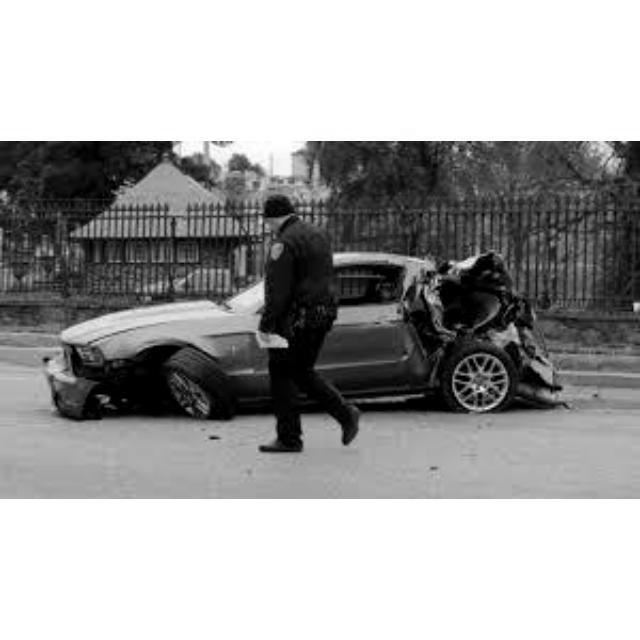front-bumper-dent: (35, 347, 92, 406)
